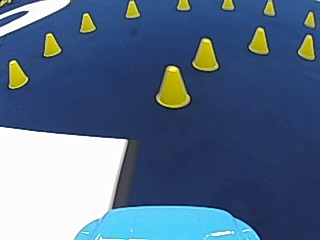cone: (155, 64, 190, 108), (191, 37, 219, 71), (247, 25, 269, 54), (7, 59, 28, 88), (297, 33, 315, 59), (42, 32, 61, 56), (79, 11, 96, 33), (124, 0, 140, 18), (303, 10, 315, 27), (262, 0, 275, 15), (176, 0, 190, 11), (221, 0, 234, 10)
